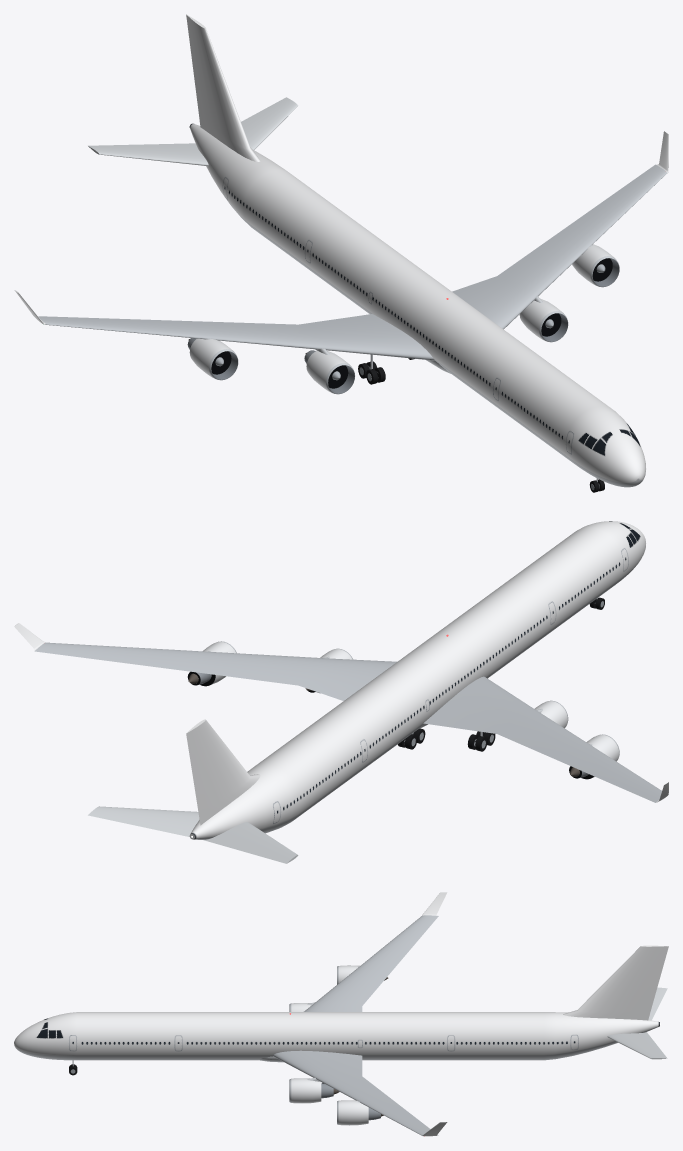
3 renders of one model, top to bottom at view 1: azimuth 30°, elevation 25°; view 2: azimuth 150°, elevation 25°; view 3: azimuth 270°, elevation 25°, orthographic. The views are drawn at different scales.
Visible parts, largest first — view 1: body; view 2: body, gear; view 3: body.
Part boxes in pixels (x1,y1,x2,y2): body: (14, 14, 668, 487); body: (14, 521, 668, 863); gear: (398, 597, 604, 751); body: (14, 892, 668, 1136).
Size of the model in its own units: 63.47 by 16.4 by 76.4.
19 materials, 1 textured.
